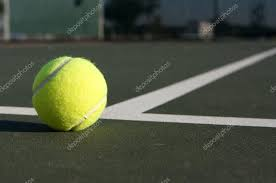tennis_ball: (32, 56, 108, 132)
